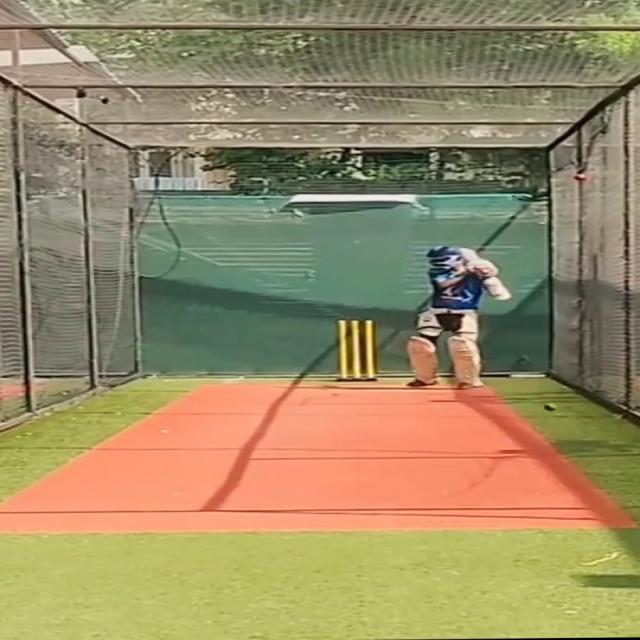ball: (539, 401, 558, 413)
stump: (331, 317, 379, 381)
